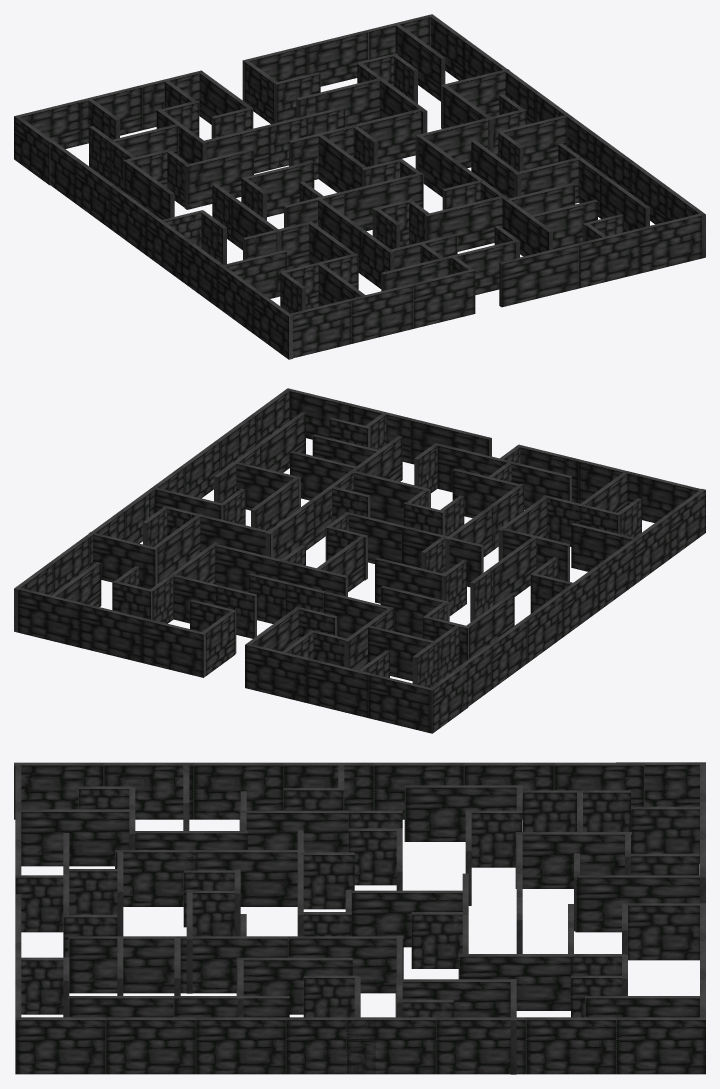
The model's file is WALLGAMEtest.fbx.
3 renders of one model, top to bottom at view 1: azimuth 30°, elevation 25°; view 2: azimuth 150°, elevation 25°; view 3: azimuth 270°, elevation 25°, orthographic. The views are drawn at different scales.
Parts seen in each view (by area): view 1: Cube.013, Cube.012, Cube.011, Cube.050, Cube.014, Cube.015, Cube.057, Cube.010, Cube.025, Cube.049, Cube.080, Cube.054 (+84 smaller); view 2: Cube.026, Cube.028, Cube.029, Cube.024, Cube.027, Cube.025, Cube.052, Cube.050, Cube.048, Cube.054, Cube.056, Cube.051 (+83 smaller); view 3: Cube.031, Cube.044, Cube.017, Cube.016, Cube.018, Cube.022, Cube.036, Cube.023, Cube.020, Cube.019, Cube.021, Cube.037 (+50 smaller).
Part boxes in pixels (<box>): Cube.013: <box>499,243,580,307</box>; Cube.012: <box>411,269,475,328</box>; Cube.011: <box>349,284,413,343</box>; Cube.050: <box>425,195,506,251</box>; Cube.014: <box>576,229,639,288</box>; Cube.015: <box>638,213,701,273</box>; Cube.057: <box>184,149,253,209</box>; Cube.010: <box>287,299,351,358</box>; Cube.025: <box>305,30,368,86</box>; Cube.049: <box>342,172,423,231</box>; Cube.080: <box>498,115,567,170</box>; Cube.054: <box>356,108,423,164</box>; Cube.026: <box>141,618,205,677</box>; Cube.028: <box>306,658,370,717</box>; Cube.029: <box>368,673,431,732</box>; Cube.024: <box>18,588,81,647</box>; Cube.027: <box>245,643,308,702</box>; Cube.025: <box>80,603,143,662</box>; Cube.052: <box>89,532,157,589</box>; Cube.050: <box>349,470,430,525</box>; Cube.048: <box>401,526,483,587</box>; Cube.054: <box>213,543,280,592</box>; Cube.056: <box>375,557,443,603</box>; Cube.051: <box>191,514,273,557</box>; Cube.031: <box>17,809,132,866</box>; Cube.044: <box>68,936,176,993</box>; Cube.017: <box>105,1017,195,1074</box>; Cube.016: <box>15,1017,105,1074</box>; Cube.018: <box>195,1017,285,1074</box>; Cube.022: <box>525,1017,615,1074</box>; Cube.036: <box>515,832,631,888</box>; Cube.023: <box>616,1017,705,1074</box>; Cube.020: <box>345,1017,435,1074</box>; Cube.019: <box>285,1017,375,1074</box>; Cube.021: <box>435,1017,525,1074</box>; Cube.037: <box>575,875,699,932</box>.
Size of the model in its own units: 2032 by 200 by 2304.
1 material, 1 textured.
